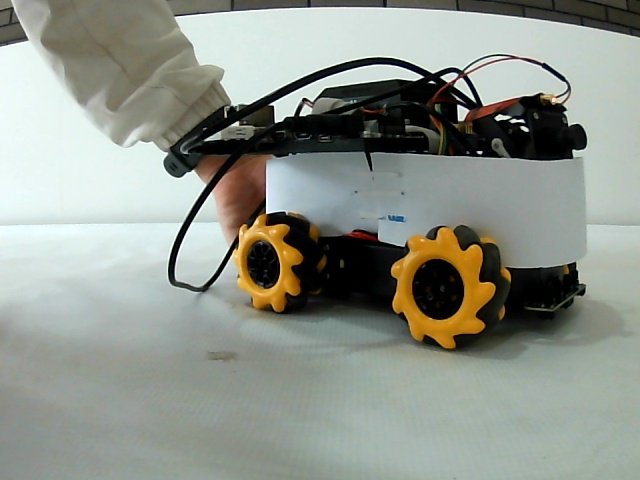car: (225, 79, 590, 351)
paper: (266, 156, 585, 226)
